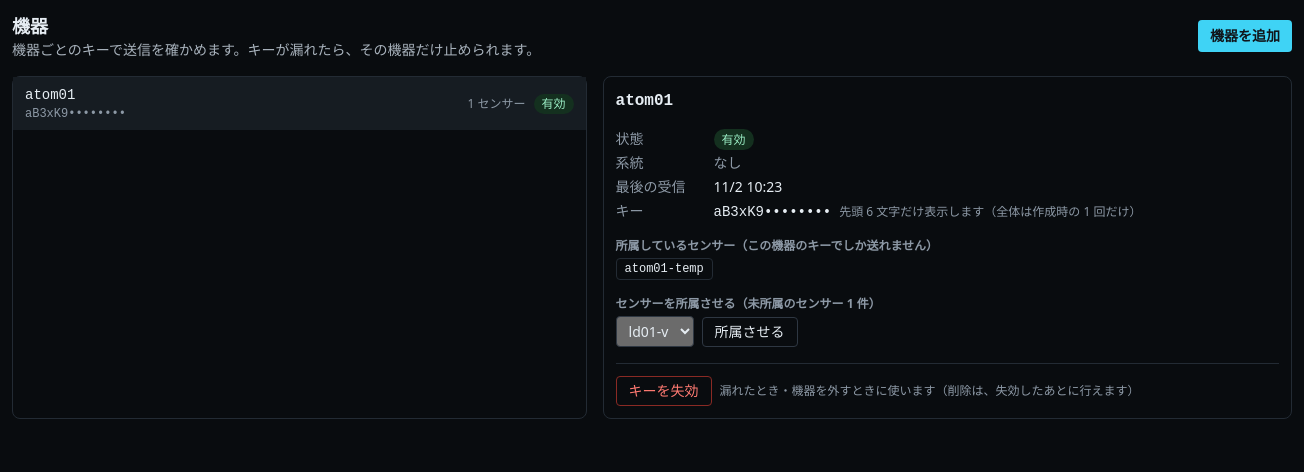
DevicesSettingsPanel › 見つからないセンサーがあれば、成功とは見せずに知らせる
This screenshot has width=1304, height=472.
Click the button "所属させる".
click(750, 332)  # box x1=702 y1=316 x2=798 y2=346
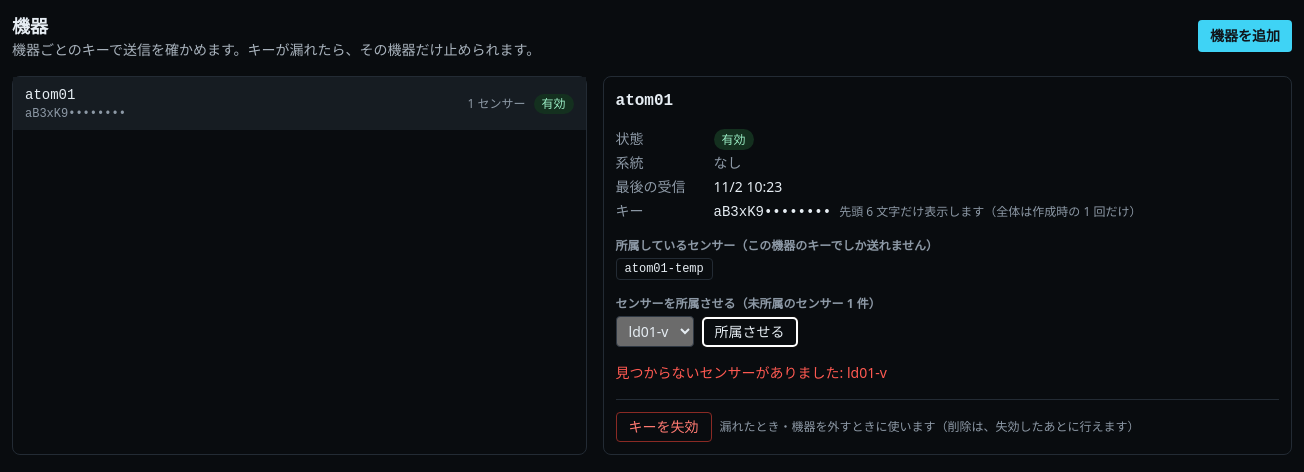
Check: the message shows "見つからないセンサー", box x1=616 y1=363 x2=887 y2=382
